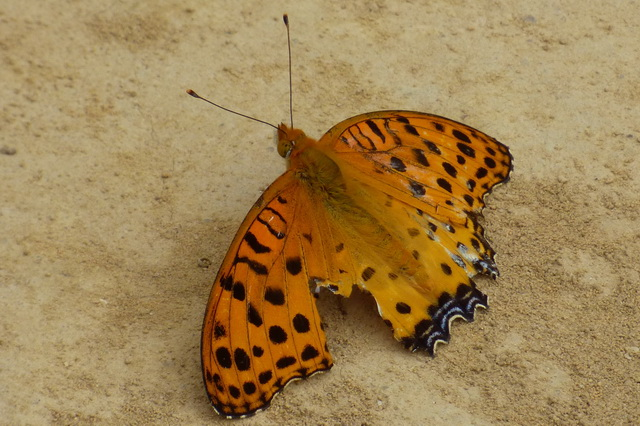Argyreus hyperbius: (182, 8, 513, 415)
butterfly: (184, 10, 515, 417)
